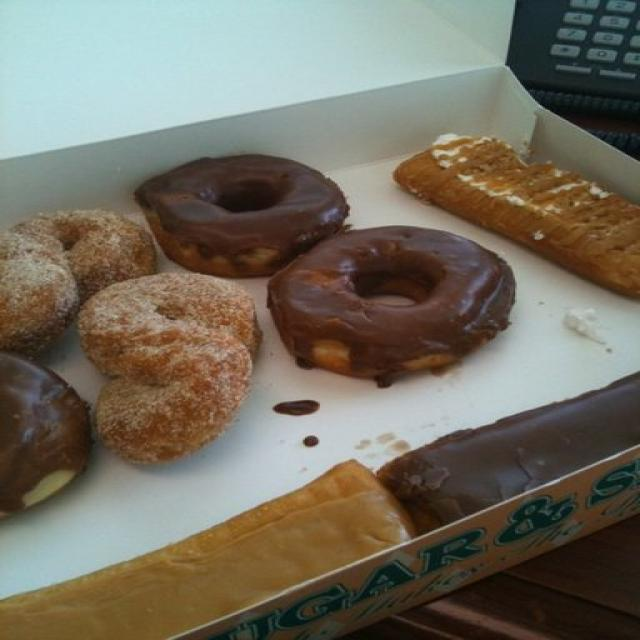Donuts: (2, 155, 514, 544)
